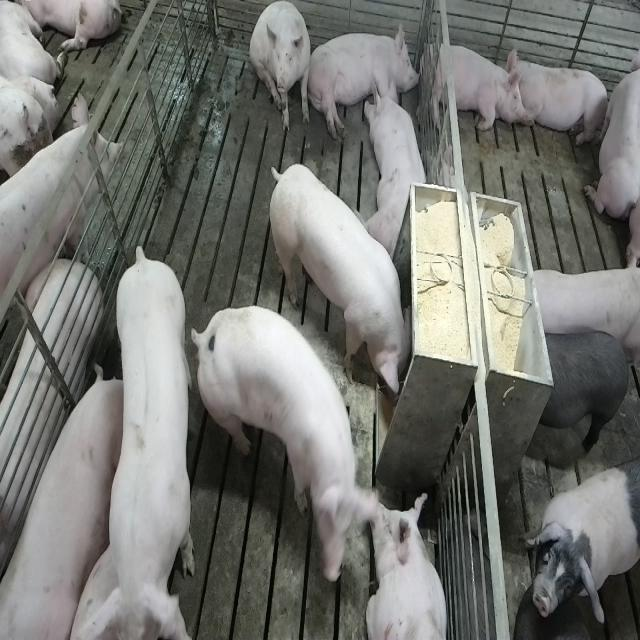Feeding: (264, 162, 411, 402)
Lateral_lying: (0, 263, 100, 596), (306, 20, 422, 141)
Sitting: (250, 2, 313, 134)
Standing: (191, 303, 383, 590), (78, 246, 198, 640), (0, 96, 122, 344), (525, 462, 637, 624), (531, 325, 635, 465), (523, 269, 637, 370)
Sternal_lying: (365, 489, 449, 640), (368, 73, 430, 257), (584, 36, 637, 227), (509, 51, 611, 149), (424, 36, 522, 135)
